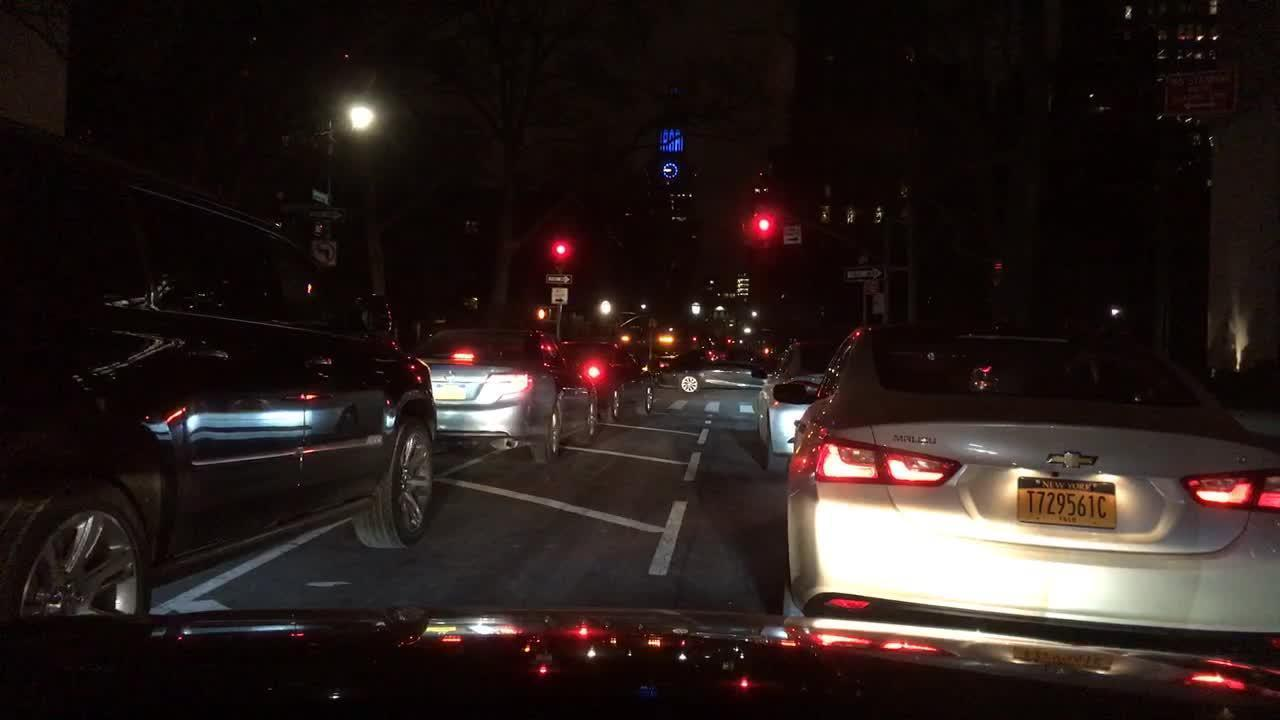chevrolet: (1038, 442, 1111, 482)
